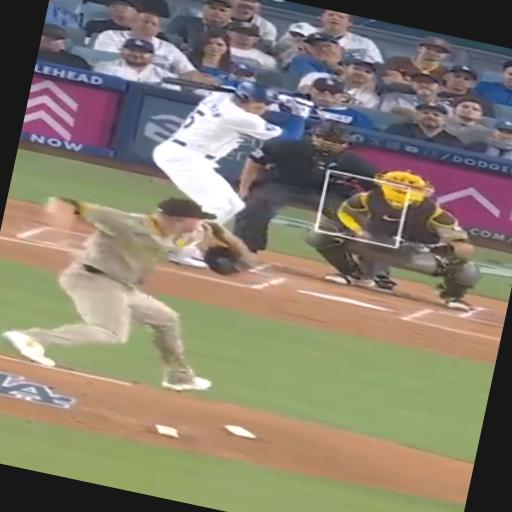bat: (162, 77, 235, 93)
